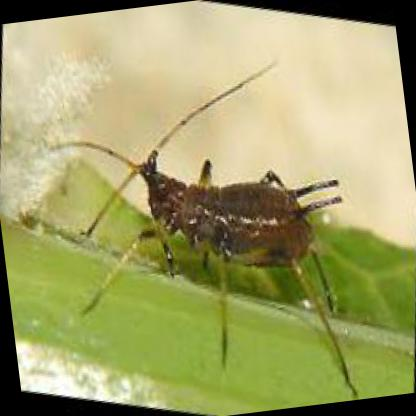uroleucon compositae: (130, 152, 342, 269)
